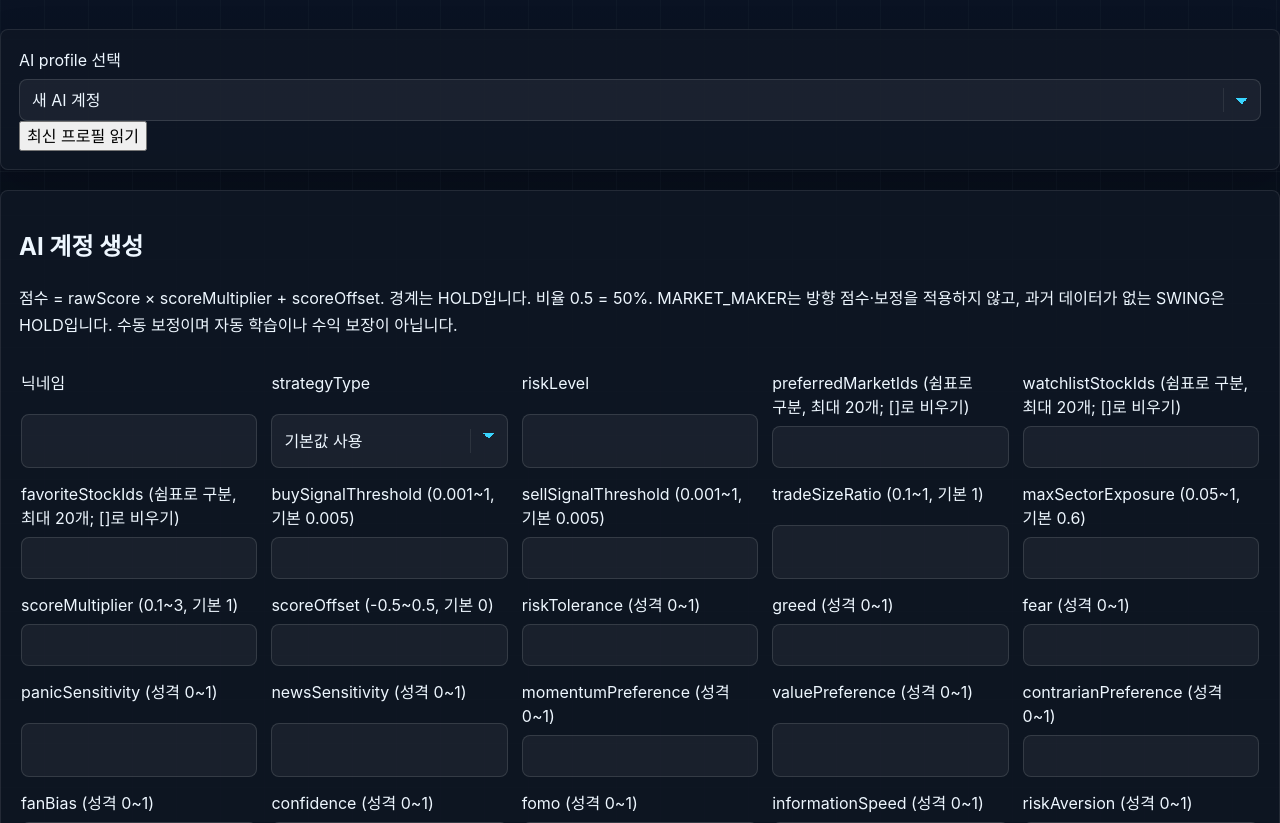
Scenario: connected screen contracts › shows current orders separately for STARTED and preserves maker null
Select "계정 A · MOMENTUM" in the dropdown labelled "AI profile 선택": (640, 100) [19,79,1261,121]
(page scrolled)
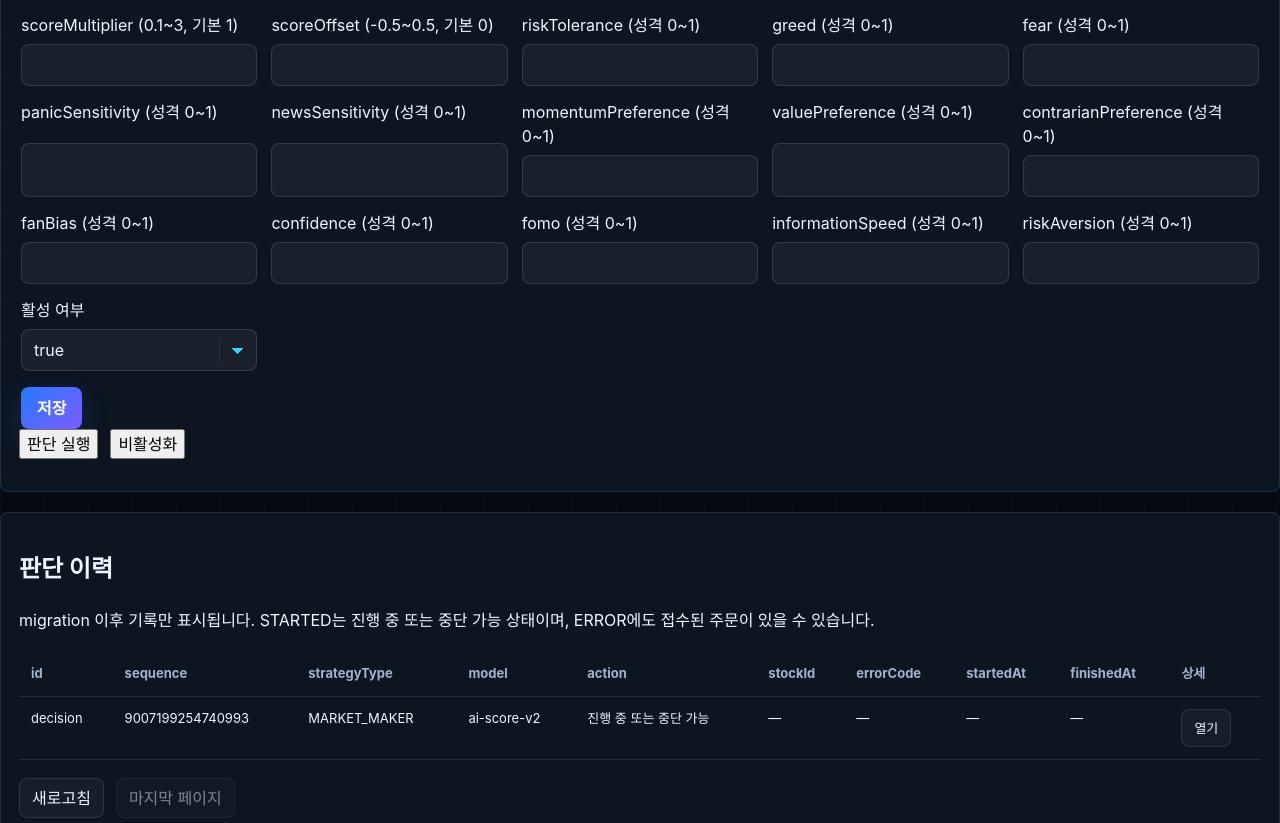
expect the text "9007199254740993" is shown: met, box [125,710,249,726]
Click the button "열기": click(1206, 728) [1181,709,1231,747]
(page scrolled)
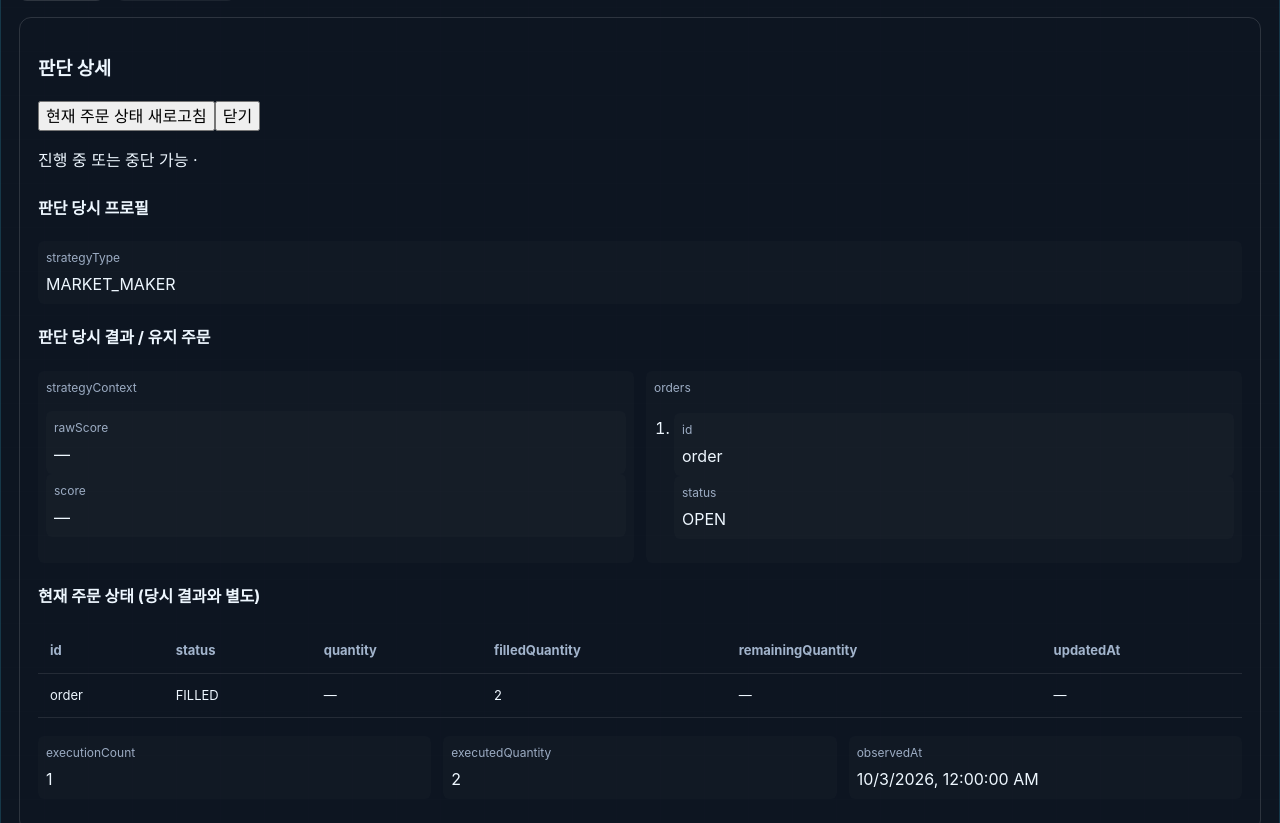
expect the text "FILLED" is shown: met, box [176,687,219,703]
expect the text "OPEN" is shown: met, box [682,509,726,529]
expect the 1st element showing "—" is shown: met, box [54,444,70,464]
